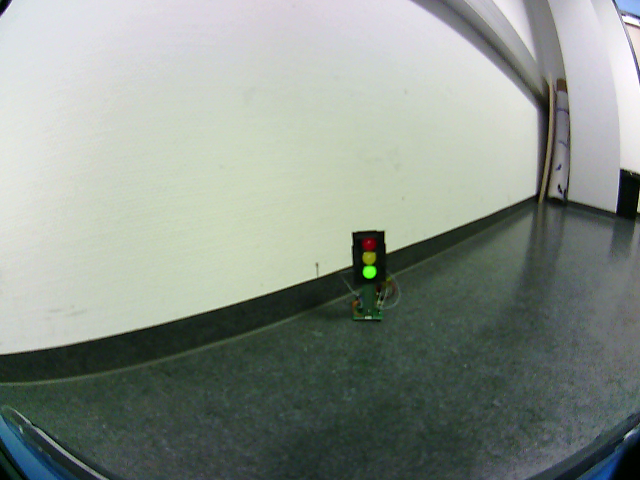green trafficlight: (354, 233, 386, 279)
